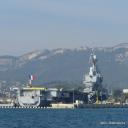Portanaves: (12, 40, 111, 110)
